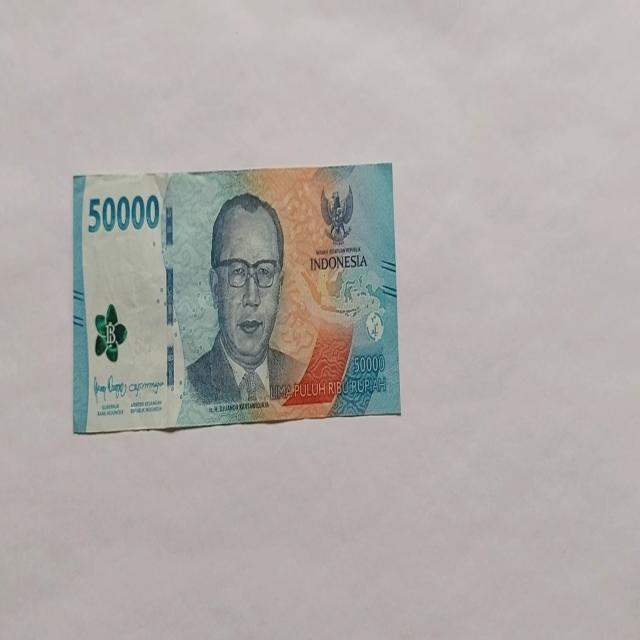lima puluh ribu rupiah: (72, 164, 400, 434), (182, 190, 308, 412)
